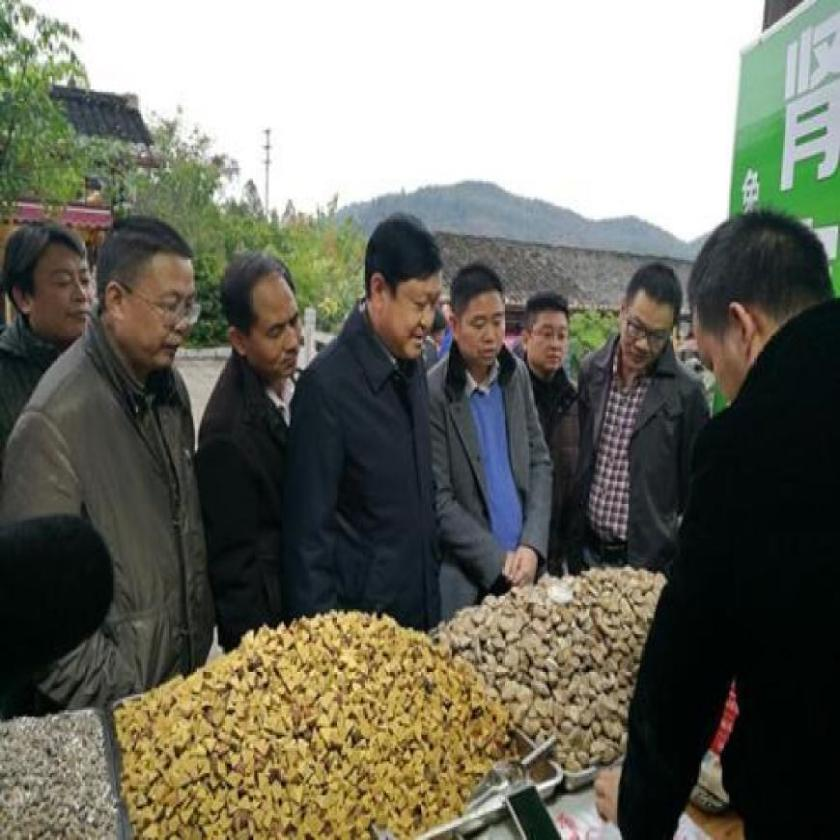Sin_casco: (694, 210, 826, 433), (96, 201, 205, 386), (215, 247, 310, 404), (3, 221, 102, 354), (361, 201, 439, 365), (613, 256, 686, 390), (442, 256, 514, 380), (515, 286, 573, 385)
